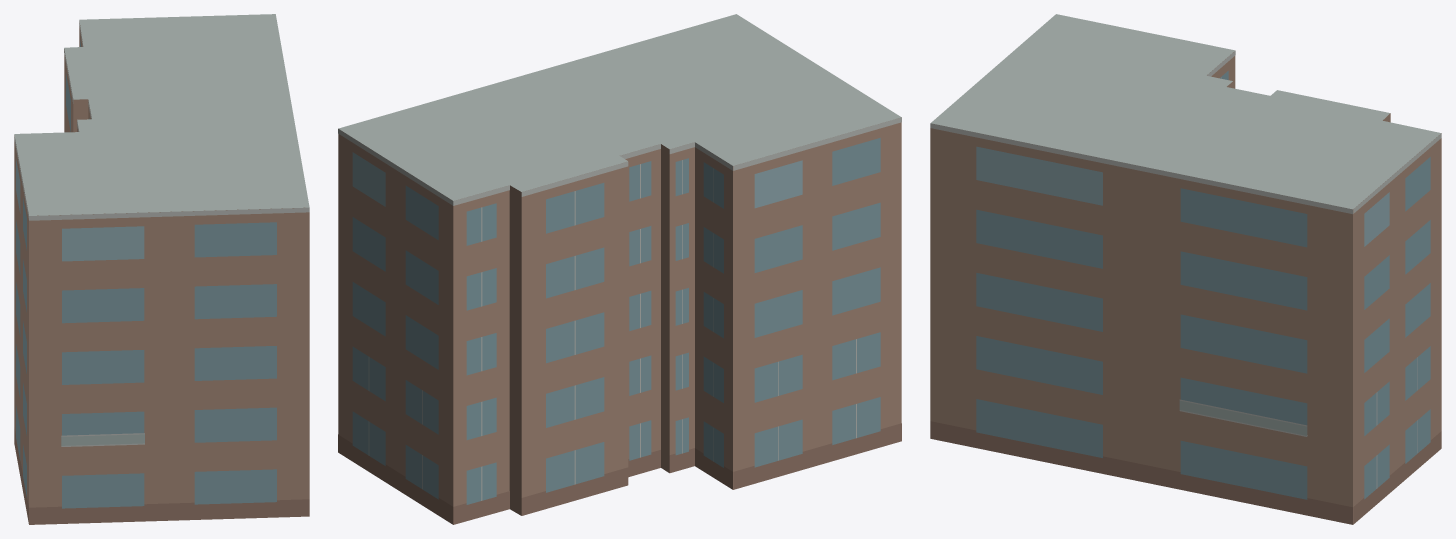
File: survey-upis-32524660.glb
The picture shows the model from 3 angles, left to right: view 1: azimuth 30°, elevation 25°; view 2: azimuth 150°, elevation 25°; view 3: azimuth 270°, elevation 25°; orthographic projection. The views are drawn at different scales.
Visible parts, largest first — view 1: survey-upis-32524660.tmp; view 2: survey-upis-32524660.tmp; view 3: survey-upis-32524660.tmp.
Boxes of the visible parts, x1,y1,x2,y2 form: survey-upis-32524660.tmp: (14,14,309,524); survey-upis-32524660.tmp: (338,14,901,524); survey-upis-32524660.tmp: (930,14,1441,524).
Size of the model in its own units: 20.99 by 15.8 by 23.2.
